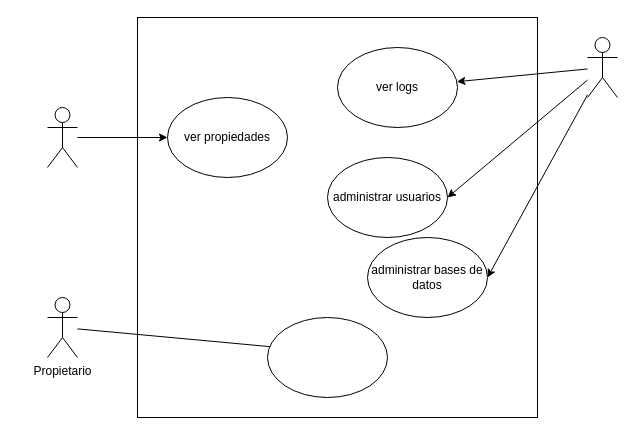
The diagram is 637 pixels wide and 435 high, and some of its shapes have lost their labels. The centre of each missing label's shape, as x and y in pixels:
Admin: [602,67]
crear y editar sus propiedades: [327,357]
Usuario anónimo: [62,137]
